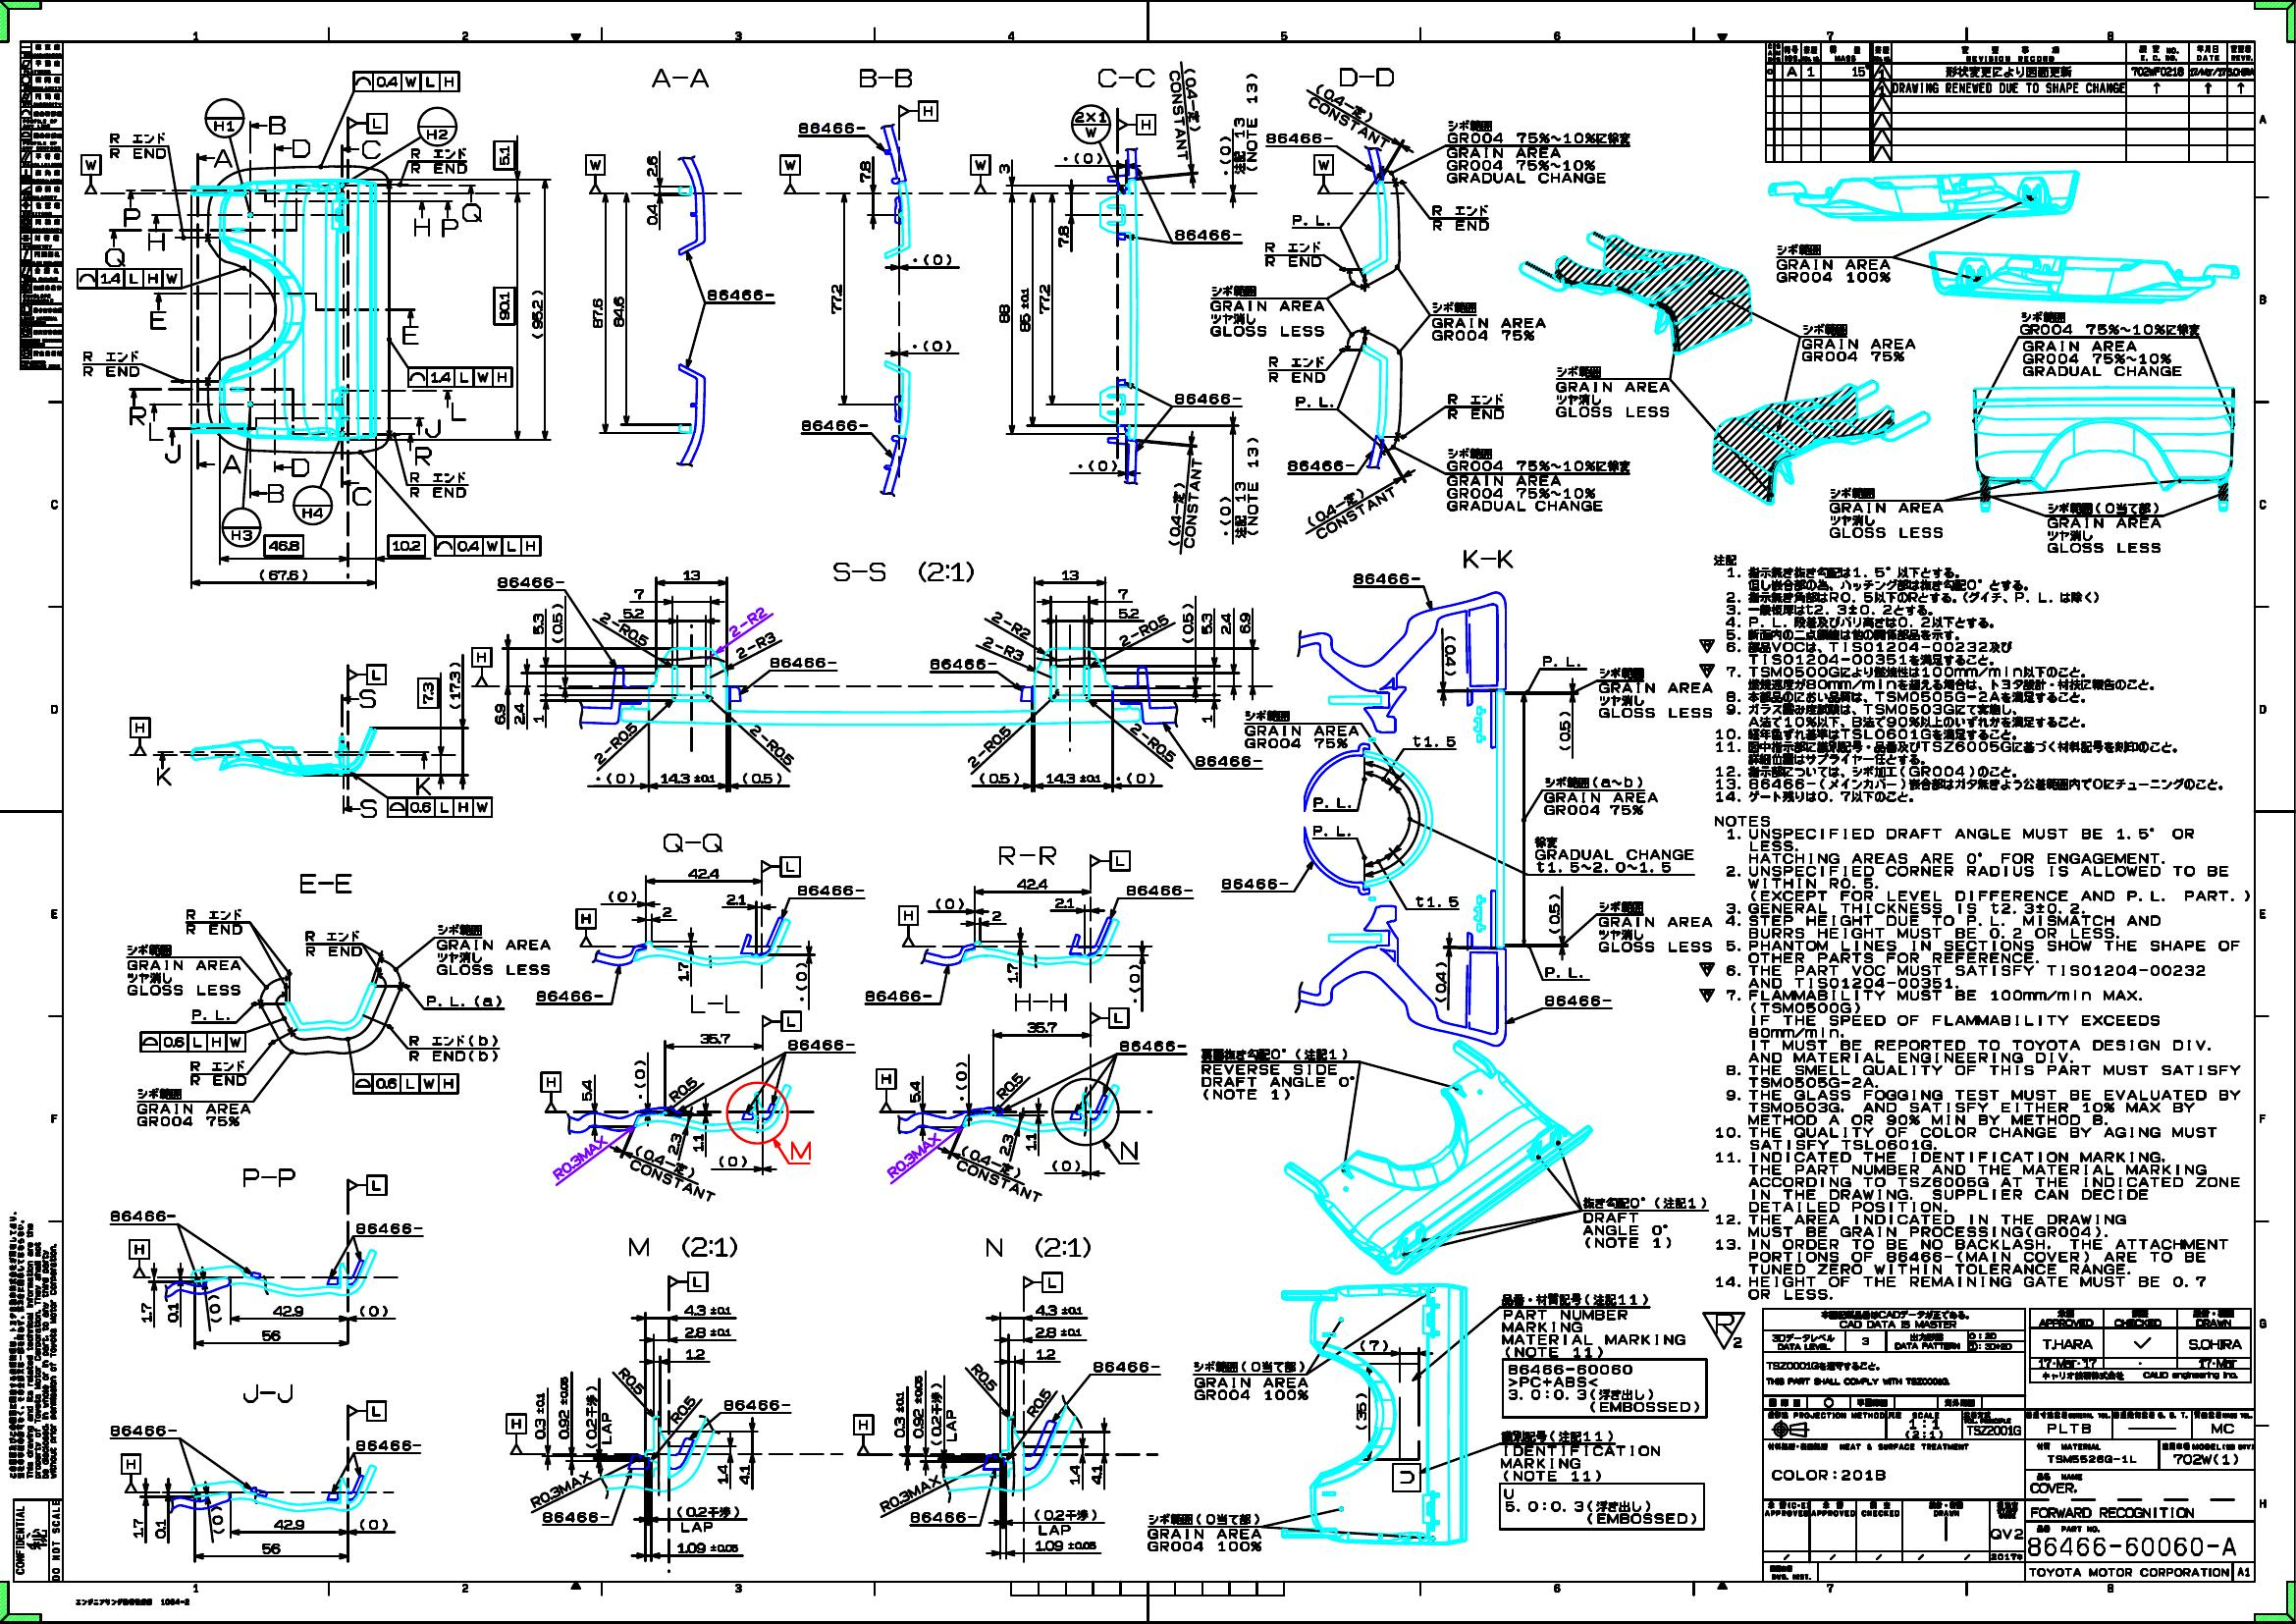anntotation_text: (1697, 810, 2249, 1299), (1697, 552, 2227, 805), (5, 1209, 58, 1480), (1446, 116, 1635, 190), (1446, 446, 1634, 517), (1500, 1357, 1706, 1418), (1502, 1290, 1690, 1357), (2020, 311, 2201, 380), (1500, 1480, 1708, 1529), (1500, 1429, 1664, 1483), (1198, 1044, 1356, 1100), (1579, 1195, 1709, 1258), (1553, 364, 1671, 424), (1829, 483, 1945, 543), (123, 942, 242, 1000), (1532, 833, 1695, 875), (1597, 900, 1716, 956), (436, 921, 550, 979), (1207, 281, 1325, 337), (1597, 666, 1715, 719), (2047, 501, 2166, 550), (1430, 297, 1548, 344), (1191, 1359, 1312, 1403), (1799, 322, 1917, 366), (1242, 708, 1361, 750), (132, 1086, 251, 1128), (1542, 775, 1658, 817), (1145, 1512, 1265, 1552), (1776, 244, 1894, 281), (12, 1497, 63, 1580), (829, 559, 977, 585), (1296, 100, 1407, 132), (1293, 492, 1400, 524), (1170, 67, 1203, 163), (406, 1032, 502, 1065), (1172, 453, 1203, 555), (624, 1234, 741, 1260), (1230, 72, 1260, 176), (978, 1236, 1098, 1260), (1233, 434, 1260, 540), (74, 265, 184, 290), (624, 1158, 720, 1186), (406, 366, 513, 388), (353, 1072, 460, 1095), (950, 1162, 1049, 1186), (350, 70, 460, 91), (434, 536, 543, 557), (139, 1032, 246, 1053), (386, 796, 494, 817), (1700, 1308, 1746, 1355), (183, 905, 246, 939), (581, 1383, 613, 1448), (1267, 353, 1328, 387), (675, 1503, 743, 1533), (646, 63, 713, 93), (302, 928, 369, 958), (1430, 204, 1491, 236), (929, 1378, 957, 1446), (1068, 104, 1112, 146), (1028, 1510, 1098, 1536), (107, 130, 167, 160), (220, 504, 262, 547), (1263, 241, 1326, 269), (415, 105, 458, 146), (408, 471, 469, 499), (1446, 390, 1507, 418), (996, 842, 1058, 870), (186, 1058, 248, 1086), (204, 95, 244, 137), (292, 483, 334, 524), (81, 350, 141, 378), (408, 146, 467, 174), (1335, 63, 1398, 90), (1456, 547, 1521, 571), (295, 872, 355, 898), (423, 991, 506, 1009), (241, 1165, 299, 1190), (1096, 67, 1158, 90), (1012, 991, 1073, 1014), (687, 991, 740, 1018), (796, 120, 870, 137), (657, 831, 724, 851), (72, 1598, 193, 1608), (1217, 875, 1289, 893), (926, 652, 998, 670), (536, 984, 608, 1002), (856, 67, 915, 88), (541, 1510, 615, 1526), (494, 575, 567, 591), (1263, 130, 1335, 146), (1172, 225, 1244, 241), (1089, 1359, 1161, 1374), (720, 1397, 792, 1413), (574, 907, 603, 947), (1172, 390, 1242, 406), (1284, 457, 1354, 473), (346, 1172, 388, 1199), (241, 1383, 297, 1403), (355, 1438, 423, 1454), (539, 1069, 564, 1113), (664, 1269, 710, 1292), (583, 153, 608, 195), (1351, 569, 1425, 584), (1541, 993, 1614, 1007), (852, 1413, 877, 1455), (761, 1009, 803, 1033), (783, 1037, 856, 1051), (1123, 884, 1195, 898), (107, 1424, 179, 1438), (875, 1067, 896, 1114), (471, 647, 495, 687), (706, 286, 776, 301), (799, 418, 870, 432), (1193, 754, 1263, 768), (908, 1510, 978, 1524), (353, 1220, 423, 1234), (794, 884, 864, 898), (780, 153, 803, 195), (1312, 153, 1335, 195), (1021, 1271, 1066, 1292), (506, 1411, 529, 1454), (898, 905, 921, 947), (1089, 849, 1131, 872), (896, 100, 940, 121), (344, 1399, 388, 1420), (107, 1209, 172, 1223), (863, 990, 936, 1002), (79, 153, 100, 195), (346, 112, 388, 134), (769, 656, 841, 668), (1117, 112, 1156, 135), (119, 1454, 142, 1492), (1089, 1007, 1130, 1028), (1391, 1464, 1421, 1492), (1539, 652, 1586, 670), (761, 854, 803, 874), (970, 151, 989, 192), (128, 1237, 148, 1278), (346, 664, 386, 684), (130, 715, 149, 756), (1117, 1040, 1188, 1051), (190, 1007, 232, 1025), (100, 246, 130, 269), (1312, 823, 1351, 840), (1289, 213, 1332, 228), (1312, 796, 1354, 810), (1293, 395, 1333, 410), (211, 146, 235, 169), (787, 1141, 813, 1162), (290, 137, 313, 160), (1117, 1139, 1140, 1162), (146, 420, 167, 445), (148, 309, 169, 332), (290, 457, 311, 480), (423, 420, 444, 443), (448, 402, 469, 425), (399, 323, 420, 346), (439, 220, 460, 243), (357, 687, 378, 710), (126, 404, 146, 429), (165, 439, 184, 464), (264, 482, 283, 506), (362, 141, 381, 165), (1542, 967, 1585, 977), (146, 230, 165, 253), (221, 453, 241, 476), (353, 485, 372, 508), (413, 448, 432, 471), (411, 216, 430, 239), (462, 202, 481, 225), (155, 766, 174, 786), (269, 114, 286, 135), (360, 798, 378, 819), (415, 773, 430, 796), (121, 207, 137, 227)
dimension_text: (875, 1146, 949, 1162), (910, 1369, 926, 1441), (262, 533, 306, 557), (520, 1483, 596, 1497), (1031, 1536, 1098, 1552), (385, 534, 429, 557), (1123, 733, 1179, 750), (655, 768, 717, 784), (545, 1151, 613, 1165), (494, 286, 518, 325), (870, 1489, 947, 1501), (587, 735, 646, 750), (740, 736, 799, 752), (959, 736, 1019, 752), (1116, 622, 1175, 638), (675, 1540, 741, 1554), (256, 566, 313, 582), (1042, 770, 1105, 784), (557, 1374, 571, 1438), (594, 620, 653, 634), (1017, 283, 1033, 336), (1033, 1301, 1086, 1316), (1412, 895, 1463, 910), (891, 1387, 906, 1438), (1216, 494, 1233, 540), (531, 290, 546, 339), (733, 636, 782, 652), (980, 640, 1029, 656), (910, 251, 954, 269), (448, 659, 462, 714), (984, 619, 1036, 633), (1059, 149, 1105, 165), (550, 601, 566, 647), (1112, 768, 1158, 784), (1433, 960, 1449, 1005), (632, 1058, 648, 1104), (532, 1390, 546, 1441), (726, 613, 775, 627), (1033, 1323, 1082, 1338), (494, 139, 515, 170), (908, 339, 956, 353), (1075, 457, 1117, 473), (1217, 132, 1231, 179), (416, 677, 437, 708), (1409, 735, 1456, 749), (1556, 708, 1572, 750), (1546, 893, 1562, 935), (792, 961, 808, 1004), (1354, 1388, 1368, 1436), (683, 1302, 731, 1316), (683, 1325, 731, 1339), (1128, 961, 1142, 1007), (590, 770, 634, 784), (829, 281, 845, 320), (978, 770, 1021, 784), (989, 1077, 1031, 1091), (604, 889, 641, 905), (1014, 877, 1054, 891), (933, 895, 968, 910), (1036, 279, 1051, 318), (664, 1083, 703, 1097), (740, 772, 783, 784), (715, 1153, 748, 1169), (954, 1060, 966, 1102), (271, 1302, 307, 1316), (1358, 1338, 1390, 1353), (207, 1294, 223, 1325), (963, 1373, 1003, 1385), (1017, 1397, 1058, 1410), (590, 295, 604, 330), (611, 294, 625, 329), (1024, 1021, 1059, 1035), (664, 1399, 699, 1413), (1180, 603, 1193, 642), (358, 1302, 388, 1318), (699, 1032, 733, 1046), (613, 1374, 646, 1388), (357, 1517, 390, 1531), (272, 1517, 306, 1531), (685, 866, 722, 879), (1444, 634, 1455, 677), (1049, 1160, 1084, 1172), (211, 1504, 225, 1534), (908, 1077, 924, 1104), (680, 566, 703, 584), (511, 701, 527, 726), (996, 1132, 1012, 1156), (258, 1327, 283, 1343), (139, 1301, 155, 1325), (857, 156, 871, 183), (1116, 606, 1142, 620), (580, 1077, 594, 1104), (531, 610, 543, 640), (1059, 568, 1082, 584), (1033, 1345, 1056, 1360), (258, 1540, 281, 1555), (996, 301, 1010, 325), (1056, 223, 1070, 248), (622, 606, 646, 620), (1052, 895, 1073, 910), (130, 1517, 146, 1538), (676, 960, 690, 982), (683, 1346, 706, 1360), (715, 1462, 729, 1485), (736, 1462, 750, 1485), (165, 1302, 179, 1325), (726, 891, 745, 907), (646, 155, 659, 179), (1219, 610, 1231, 634), (1005, 960, 1017, 984), (1089, 1464, 1103, 1485), (494, 701, 506, 724), (1200, 612, 1212, 634), (1240, 612, 1253, 634), (669, 1132, 682, 1153), (155, 1517, 167, 1538), (646, 202, 657, 225), (1070, 1462, 1080, 1485), (1024, 1132, 1036, 1151), (692, 1132, 704, 1151), (989, 909, 1005, 923), (532, 714, 546, 728), (996, 162, 1012, 174), (1116, 585, 1128, 601), (632, 587, 645, 601), (661, 905, 671, 917)
object: (1293, 587, 1513, 1051), (1279, 1037, 1595, 1276), (188, 163, 392, 459), (580, 643, 1179, 728), (1281, 1278, 1467, 1547), (1969, 383, 2236, 520), (1514, 228, 1757, 355), (1709, 376, 1932, 510), (1927, 250, 2240, 306), (1760, 169, 2083, 221), (1358, 142, 1405, 473), (875, 120, 915, 503), (668, 153, 715, 471), (1103, 144, 1145, 483), (262, 954, 404, 1053), (940, 1399, 1079, 1497), (569, 1083, 791, 1134), (891, 1084, 1119, 1134), (165, 1246, 378, 1297), (165, 1462, 378, 1513), (922, 914, 1119, 968), (592, 917, 791, 968), (594, 1413, 711, 1497), (190, 724, 381, 775)
title_block: (1760, 1308, 2259, 1584), (1764, 39, 2256, 162), (19, 39, 61, 371)
